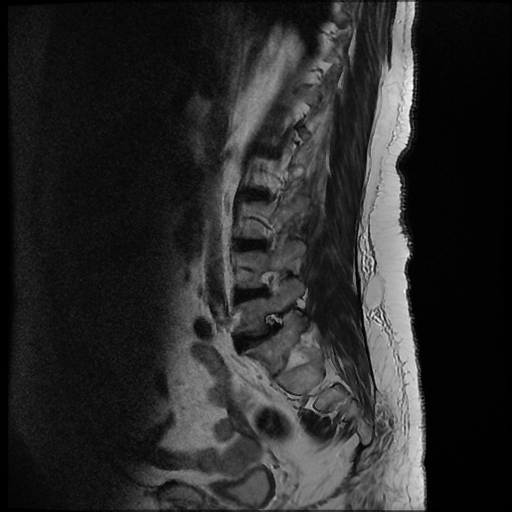RFS0: (252, 261, 299, 302)
